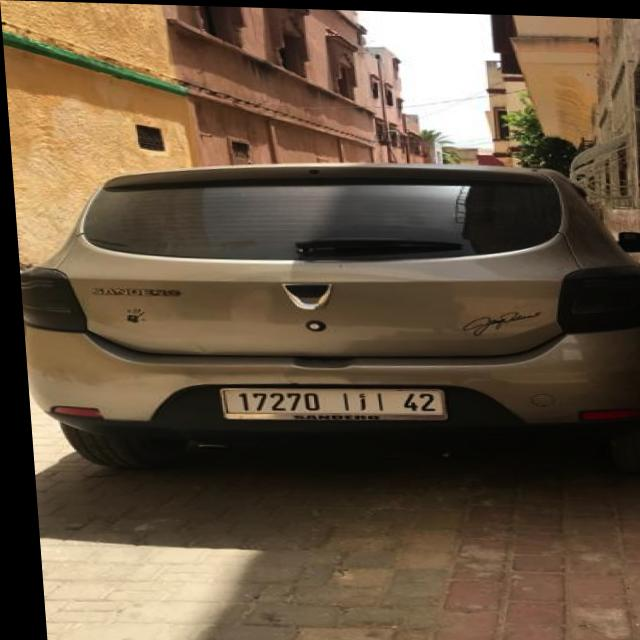License-Plate: (217, 387, 442, 418)
